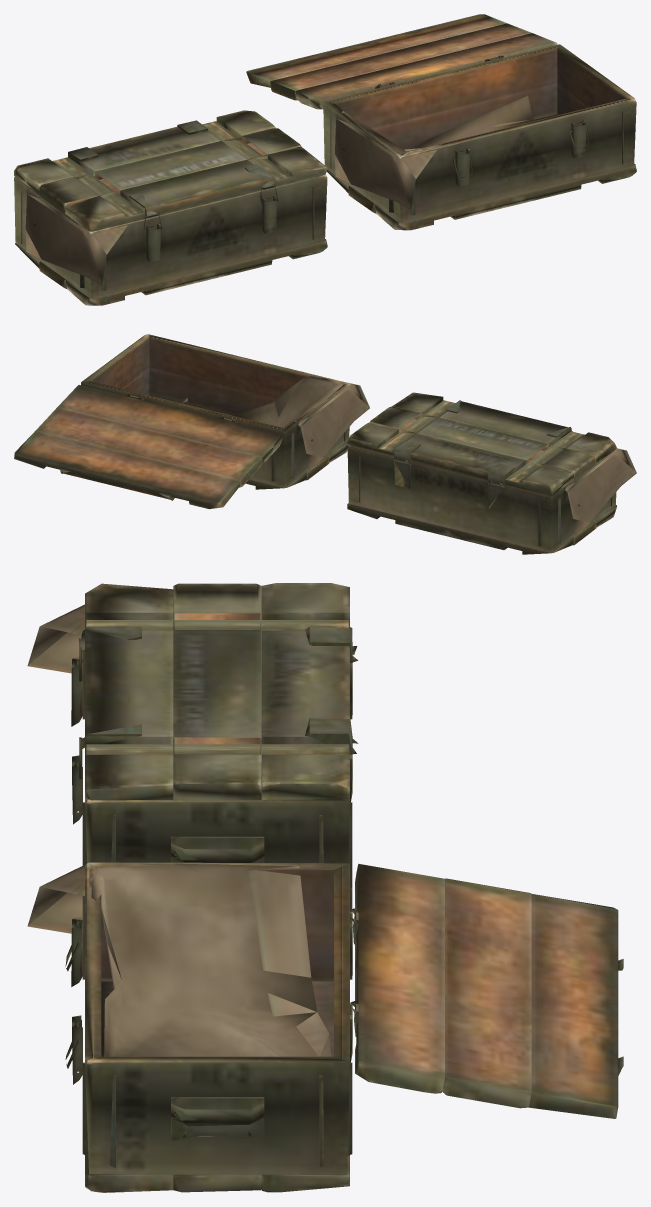
File: old_military_crate.glb
3 views of the same model, one above another, from view 1: azimuth 30°, elevation 25°; view 2: azimuth 150°, elevation 25°; view 3: azimuth 270°, elevation 25° (orthographic). The views are drawn at different scales.
Parts seen in each view (by area): view 1: old_military_crate_b, old_military_crate_lid_a, old_military_crate_a, old_military_crate_lid_b, old_military_crate_cloth_b, old_military_crate_cloth_a, old_military_crate_latch_a, old_military_crate_latch_b; view 2: old_military_crate_lid_b, old_military_crate_lid_a, old_military_crate_a, old_military_crate_b, old_military_crate_cloth_b, old_military_crate_cloth_a; view 3: old_military_crate_lid_a, old_military_crate_lid_b, old_military_crate_b, old_military_crate_cloth_b, old_military_crate_a, old_military_crate_cloth_a, old_military_crate_latch_b, old_military_crate_latch_a.
Part boxes in pixels (x1,y1,x2,y2): old_military_crate_b: [323, 44, 636, 230]; old_military_crate_lid_a: [14, 110, 327, 231]; old_military_crate_a: [14, 174, 327, 305]; old_military_crate_lid_b: [246, 14, 557, 109]; old_military_crate_cloth_b: [334, 96, 534, 210]; old_military_crate_cloth_a: [25, 190, 127, 285]; old_military_crate_latch_a: [146, 196, 276, 262]; old_military_crate_latch_b: [455, 120, 585, 186]; old_military_crate_lid_b: [14, 385, 283, 509]; old_military_crate_lid_a: [347, 392, 616, 495]; old_military_crate_a: [347, 446, 616, 554]; old_military_crate_b: [81, 334, 350, 489]; old_military_crate_cloth_b: [175, 375, 369, 470]; old_military_crate_cloth_a: [565, 448, 636, 535]; old_military_crate_lid_a: [79, 583, 358, 800]; old_military_crate_lid_b: [350, 863, 623, 1118]; old_military_crate_b: [82, 862, 352, 1192]; old_military_crate_cloth_b: [27, 862, 330, 1056]; old_military_crate_a: [82, 627, 352, 887]; old_military_crate_cloth_a: [27, 604, 84, 673]; old_military_crate_latch_b: [71, 917, 82, 1084]; old_military_crate_latch_a: [71, 657, 82, 824].
Bounding box in the file's own units: 1.81 × 0.2734 × 0.9677.
Materials: 1 (1 with a texture image).
